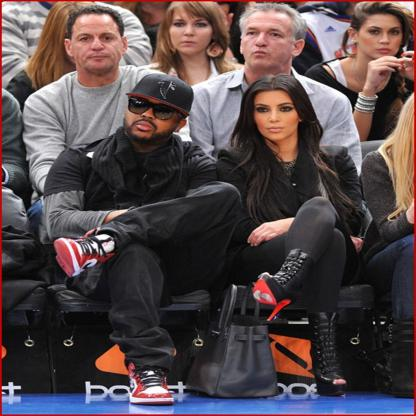face: (240, 12, 296, 66), (74, 12, 123, 73), (129, 88, 180, 142), (254, 89, 302, 142), (358, 9, 405, 62), (168, 6, 213, 55)
